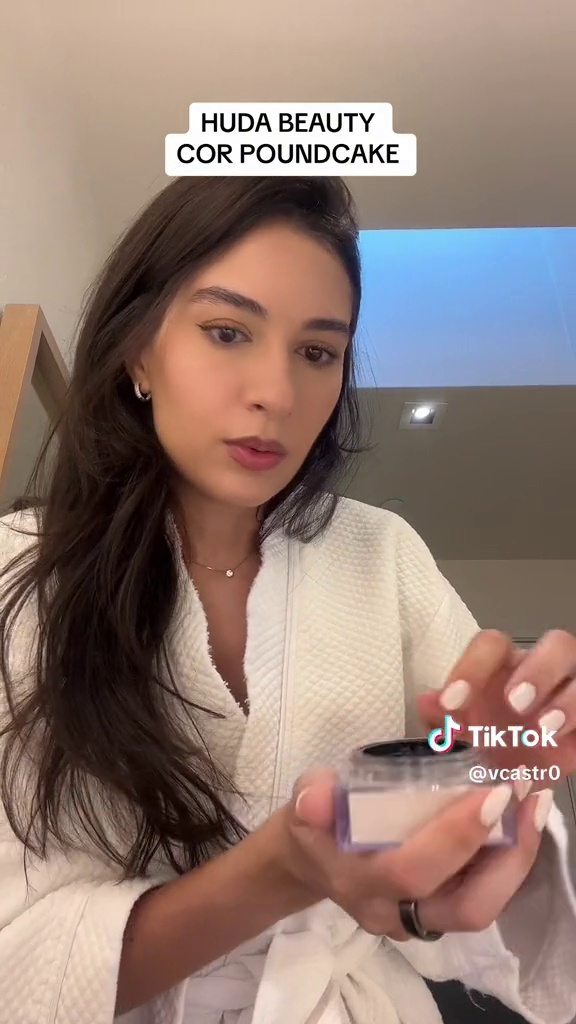train' :'yolo_data/train/images',: (321, 726, 523, 869)
